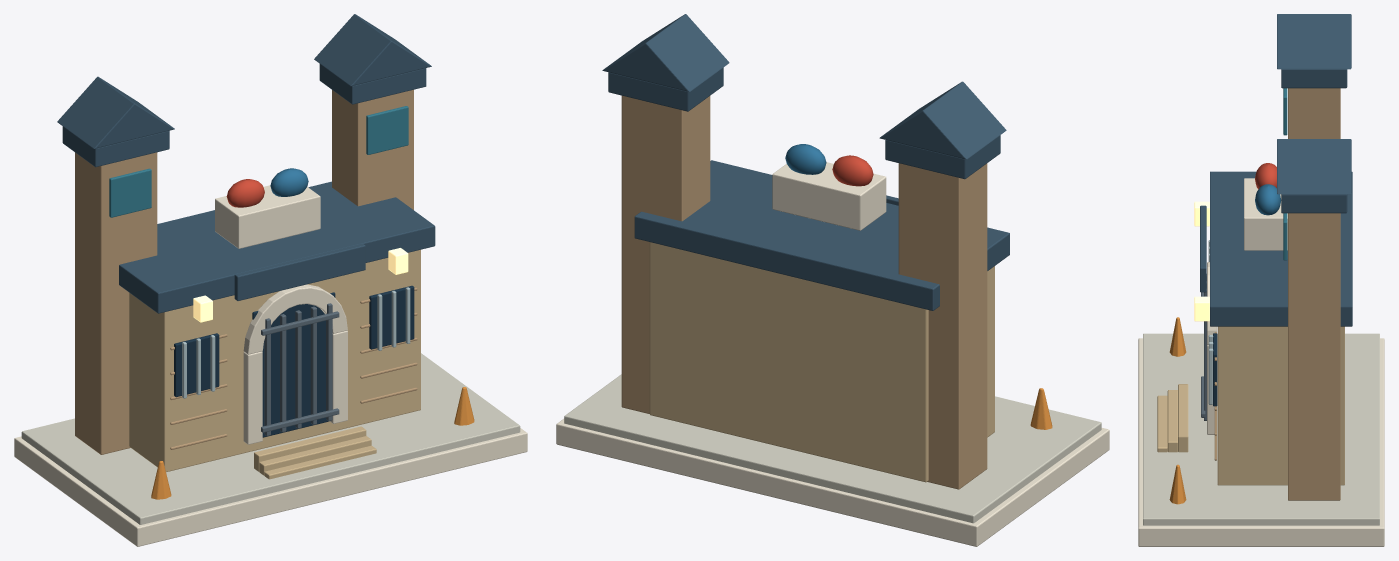
The model's file is go-to-jail.glb.
The picture shows the model from 3 angles, left to right: view 1: azimuth 30°, elevation 25°; view 2: azimuth 150°, elevation 25°; view 3: azimuth 270°, elevation 25°; orthographic projection. The views are drawn at different scales.
Parts seen in each view (by area): view 1: Go to Jail; view 2: Go to Jail; view 3: Go to Jail.
Part boxes in pixels (x1,y1,x2,y2): Go to Jail: [14, 14, 527, 546]; Go to Jail: [556, 14, 1109, 546]; Go to Jail: [1138, 14, 1384, 546].
Bounding box in the file's own units: 1.47 × 1.36 × 0.8064.
